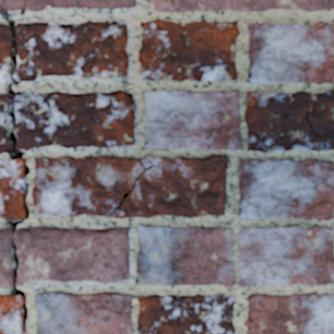brick: (33, 155, 226, 217), (139, 19, 238, 81), (137, 226, 234, 285), (145, 90, 241, 149), (239, 159, 333, 219), (239, 226, 333, 285), (245, 91, 333, 151), (248, 22, 333, 83), (35, 293, 132, 333), (137, 295, 233, 333), (249, 294, 333, 333), (151, 0, 333, 11), (0, 160, 25, 218), (0, 296, 25, 333), (141, 157, 149, 166)
broken_brick: (15, 89, 135, 151), (15, 20, 129, 83), (15, 226, 129, 286), (0, 0, 136, 12), (0, 228, 12, 289), (0, 23, 11, 83), (0, 93, 9, 154)
crack: (0, 2, 29, 331), (115, 156, 164, 210), (246, 316, 253, 333), (247, 71, 253, 83), (238, 207, 243, 214)
